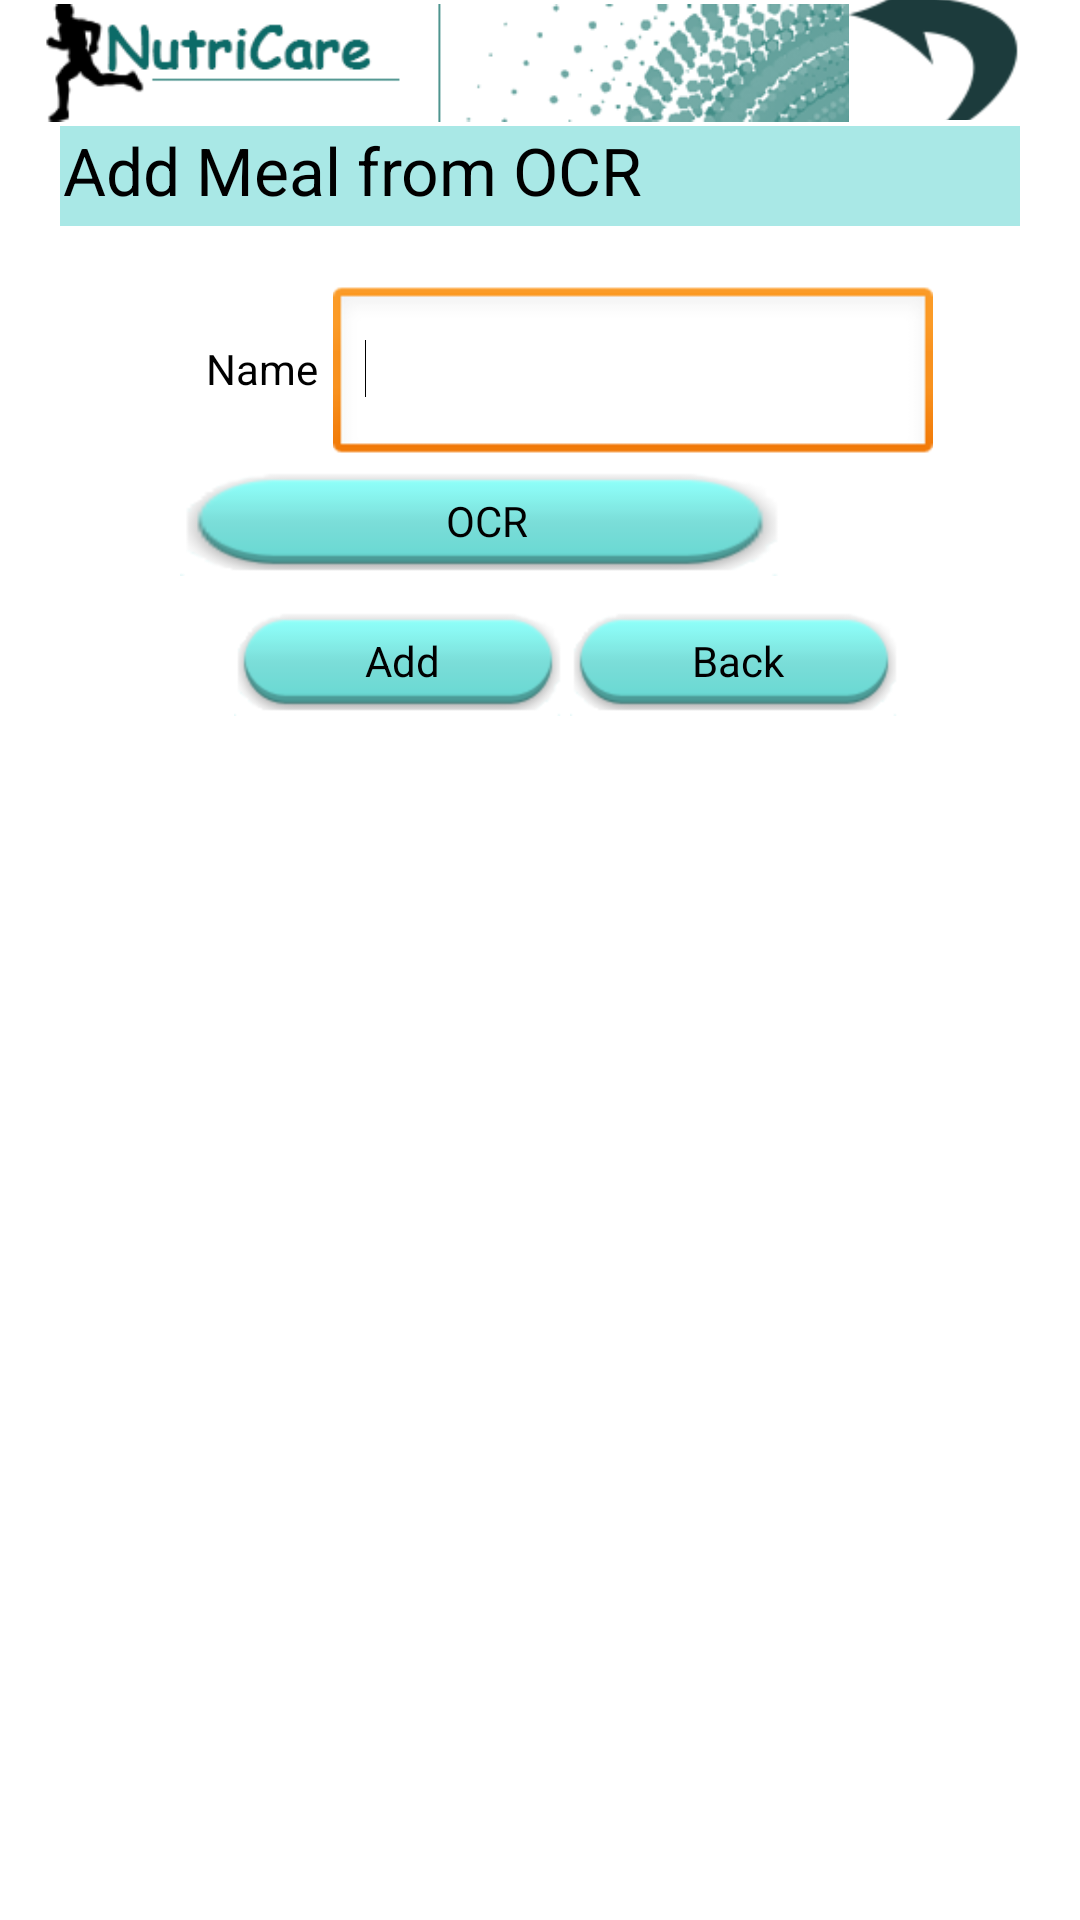

Where to tap for icons on this 1080 x 1920 app screen, as (x=x, y=y):
back: (x=933, y=60)
